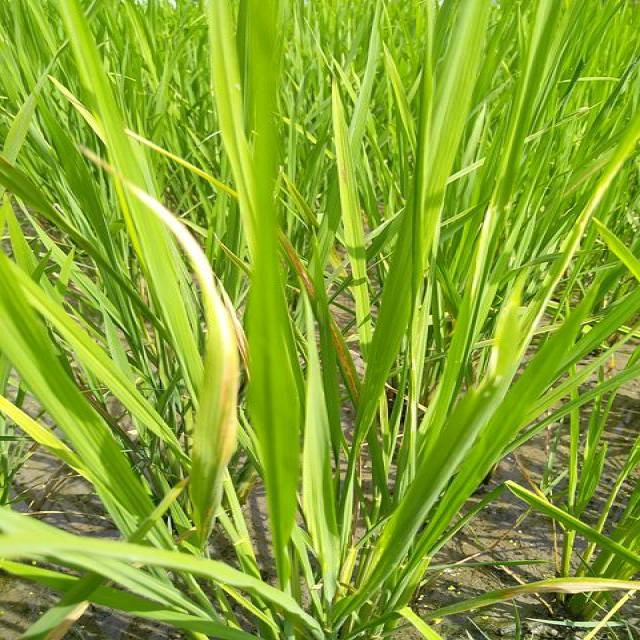Leaf Blight: (131, 185, 248, 545)
Leaf Streak: (328, 313, 361, 408), (281, 240, 315, 301)
